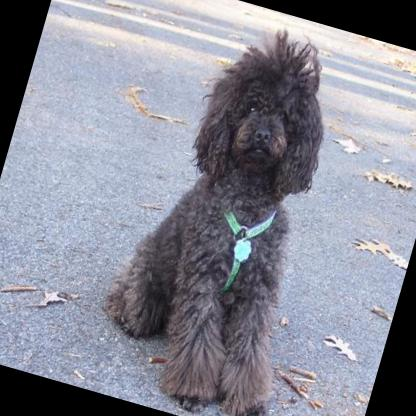toy_poodle: (82, 0, 369, 416)
